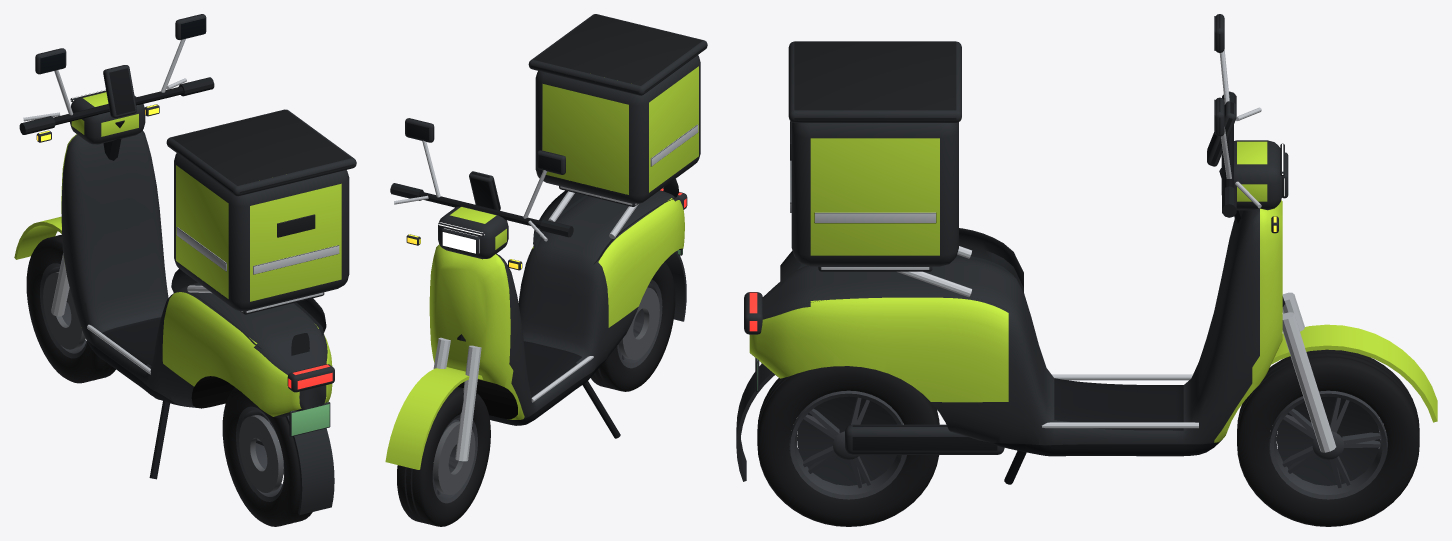
The model's file is gz_scooter.glb.
3 renders of one model, left to right at view 1: azimuth 30°, elevation 25°; view 2: azimuth 150°, elevation 25°; view 3: azimuth 270°, elevation 25°, orthographic. The views are drawn at different scales.
Parts seen in each view (by area): view 1: scooter | body, scooter rear centre | wheel, scooter front centre | wheel; view 2: scooter | body, scooter front centre | wheel, scooter rear centre | wheel; view 3: scooter | body, scooter front centre | wheel, scooter rear centre | wheel.
Boxes of the visible parts, bbox=[...] form: scooter | body: bbox=[14, 14, 356, 515]; scooter rear centre | wheel: bbox=[222, 387, 312, 526]; scooter front centre | wheel: bbox=[26, 234, 115, 383]; scooter | body: bbox=[385, 14, 707, 469]; scooter front centre | wheel: bbox=[397, 387, 490, 526]; scooter rear centre | wheel: bbox=[591, 261, 675, 391]; scooter | body: bbox=[736, 14, 1437, 484]; scooter front centre | wheel: bbox=[1237, 349, 1419, 526]; scooter rear centre | wheel: bbox=[757, 366, 939, 526].
Bounding box in the file's own units: 0.7 × 1.32 × 1.84.
